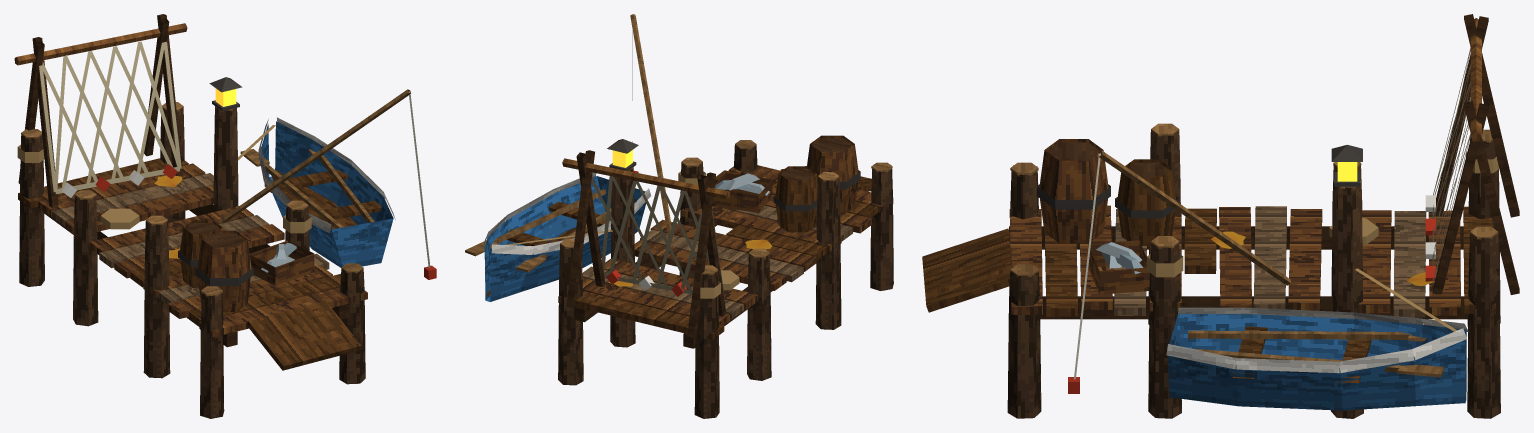
The model's file is fishing_pier.glb.
3 views of the same model, side by side, from view 1: azimuth 30°, elevation 25°; view 2: azimuth 150°, elevation 25°; view 3: azimuth 270°, elevation 25° (orthographic). The views are drawn at different scales.
Visible parts, largest first — view 1: fishing_pier, sway_boat; view 2: fishing_pier, sway_boat; view 3: fishing_pier, sway_boat.
Part boxes in pixels (box(x1,y1,x2,y2)): fishing_pier: box(14, 14, 436, 418); sway_boat: box(240, 117, 395, 267); fishing_pier: box(491, 14, 893, 418); sway_boat: box(465, 172, 651, 301); fishing_pier: box(922, 14, 1519, 418); sway_boat: box(1166, 307, 1468, 410).
Size of the model in its own units: 3.23 by 2.67 by 4.59.
Materials: 20 (10 with a texture image).
